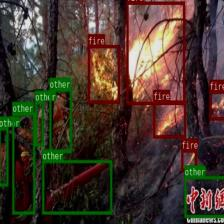fire: (126, 1, 184, 104), (88, 44, 120, 102), (153, 99, 186, 138), (209, 90, 224, 120), (181, 149, 196, 171)
